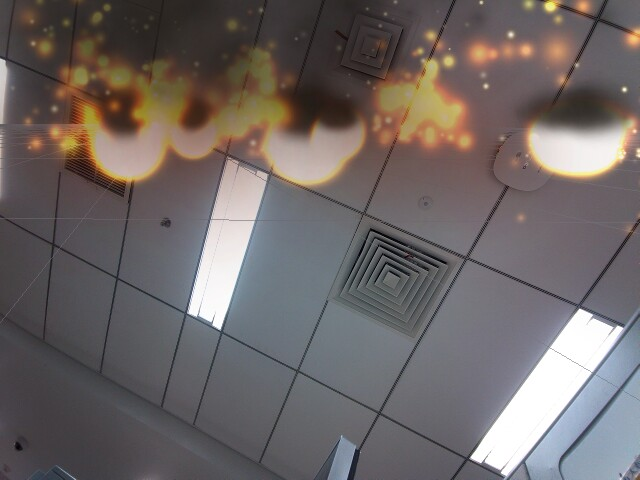fire: (257, 81, 349, 187), (528, 93, 629, 181), (81, 93, 167, 184), (311, 100, 371, 160), (170, 102, 221, 161)
